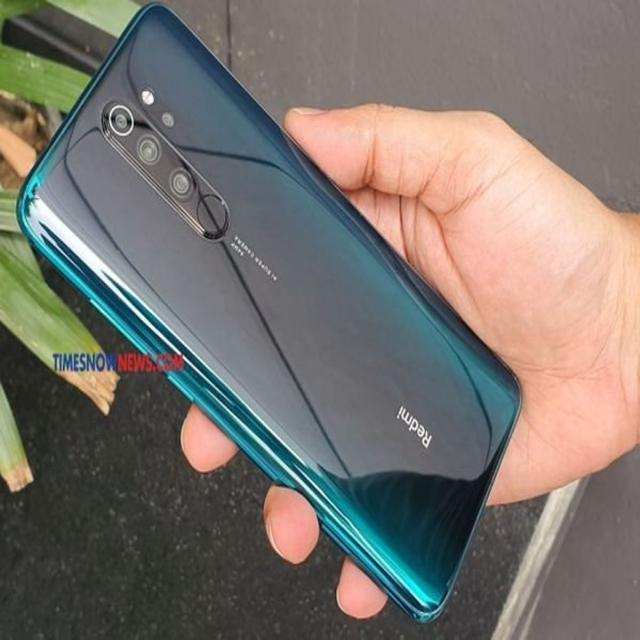Phone: (15, 0, 530, 626)
